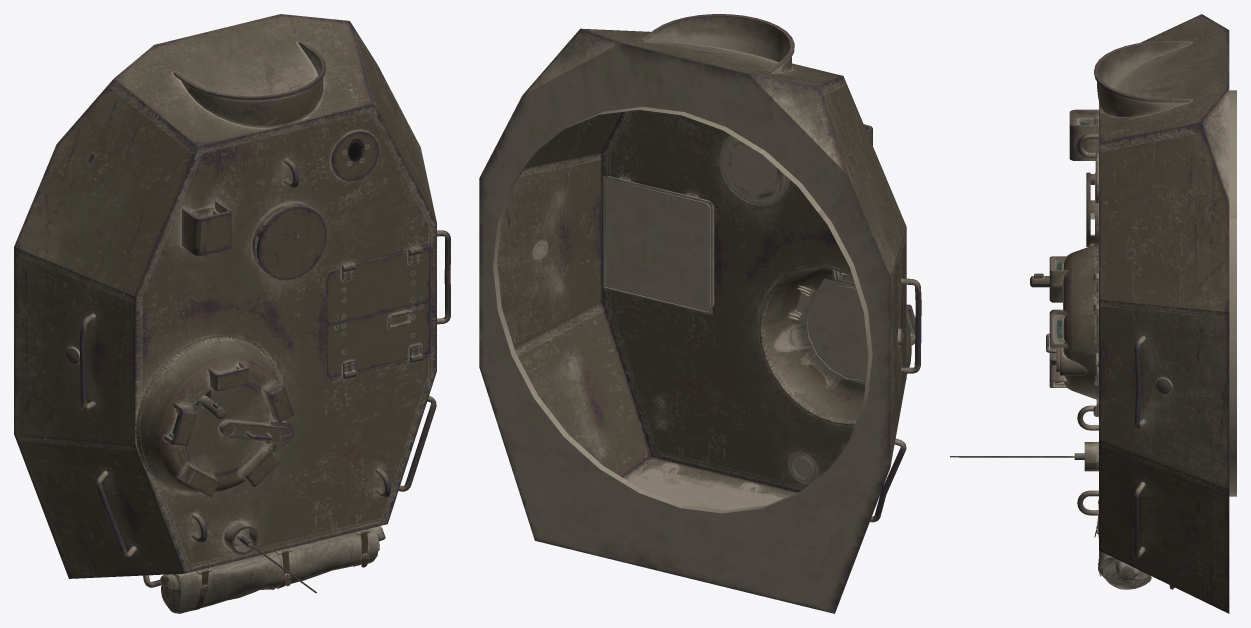
The model's file is Turret_02.glb.
3 views of the same model, side by side, from view 1: azimuth 30°, elevation 25°; view 2: azimuth 150°, elevation 25°; view 3: azimuth 270°, elevation 25° (orthographic). The views are drawn at different scales.
Visible parts, largest first — view 1: set_0_group_0; view 2: set_0_group_0; view 3: set_0_group_0.
Part boxes in pixels (x1=…): set_0_group_0: x1=14, y1=14, x2=450, y2=613; set_0_group_0: x1=479, y1=14, x2=921, y2=613; set_0_group_0: x1=950, y1=14, x2=1236, y2=613.
Size of the model in its own units: 2.4 by 2.94 by 1.55.
1 material, 1 textured.
